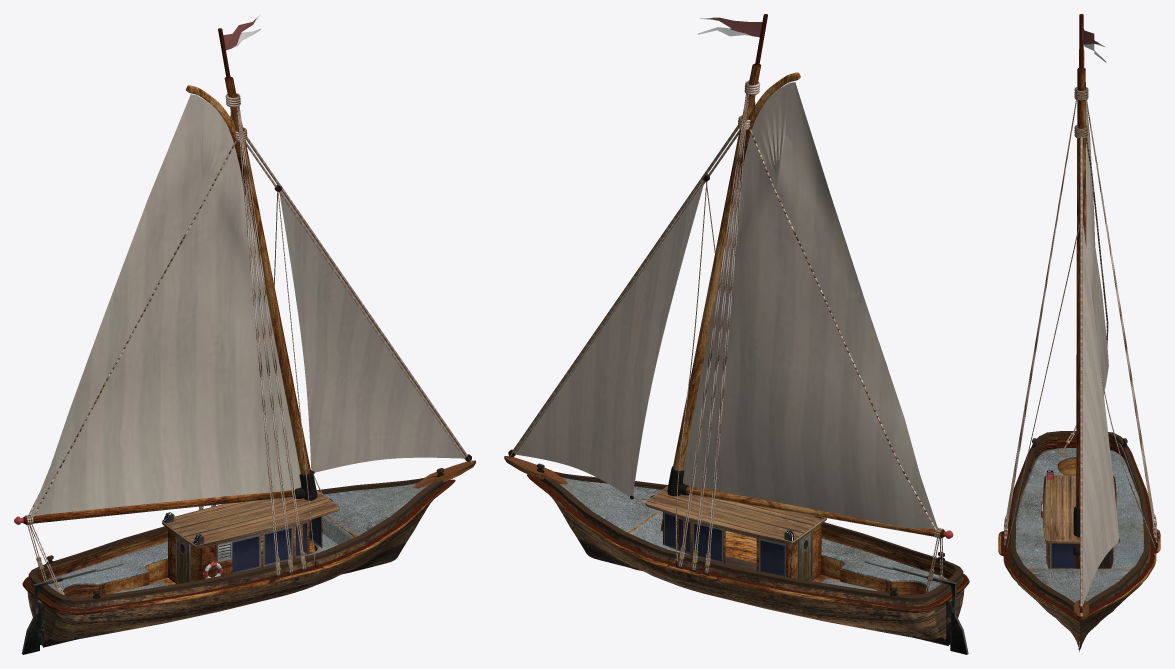
Rendered from raft.glb.
The picture shows the model from 3 angles, left to right: view 1: azimuth 30°, elevation 25°; view 2: azimuth 150°, elevation 25°; view 3: azimuth 270°, elevation 25°; orthographic projection. The views are drawn at different scales.
Visible parts, largest first — view 1: Object_6, Object_8, Object_23, Object_25, Object_27, Object_17, Object_2, Object_32, Object_5, Object_21, Object_20, Object_24; view 2: Object_6, Object_8, Object_23, Object_25, Object_27, Object_17, Object_2, Object_32, Object_5, Object_14, Object_21, Object_24 (+3 smaller); view 3: Object_6, Object_27, Object_8, Object_23, Object_25, Object_17, Object_32, Object_2, Object_5, Object_9.
Part boxes in pixels (left/top/right/bottom): Object_6: left=31, top=94, right=465, bottom=516; Object_8: left=27, top=476, right=447, bottom=641; Object_23: left=22, top=28, right=475, bottom=597; Object_25: left=22, top=479, right=455, bottom=614; Object_27: left=45, top=483, right=427, bottom=593; Object_17: left=25, top=93, right=305, bottom=593; Object_2: left=162, top=486, right=339, bottom=548; Object_32: left=28, top=137, right=472, bottom=564; Object_5: left=217, top=517, right=321, bottom=573; Object_21: left=22, top=498, right=332, bottom=654; Object_20: left=38, top=470, right=317, bottom=645; Object_24: left=186, top=85, right=248, bottom=199; Object_6: left=514, top=82, right=937, bottom=529; Object_8: left=538, top=471, right=964, bottom=639; Object_23: left=504, top=14, right=944, bottom=595; Object_25: left=527, top=474, right=969, bottom=612; Object_27: left=559, top=477, right=947, bottom=591; Object_17: left=679, top=80, right=944, bottom=593; Object_2: left=645, top=486, right=826, bottom=544; Object_32: left=507, top=125, right=937, bottom=564; Object_5: left=664, top=512, right=786, bottom=576; Object_14: left=577, top=538, right=948, bottom=645; Object_21: left=650, top=495, right=968, bottom=654; Object_24: left=736, top=72, right=800, bottom=189; Object_6: left=1083, top=101, right=1119, bottom=604; Object_27: left=1015, top=448, right=1143, bottom=602; Object_8: left=1009, top=431, right=1150, bottom=645; Object_23: left=998, top=14, right=1160, bottom=619; Object_25: left=1003, top=436, right=1156, bottom=639; Object_17: left=1004, top=87, right=1157, bottom=544; Object_32: left=1006, top=136, right=1155, bottom=616; Object_2: left=1043, top=475, right=1116, bottom=543; Object_5: left=1050, top=543, right=1112, bottom=568; Object_9: left=1082, top=24, right=1106, bottom=62.
Size of the model in its own units: 4.01 by 4.88 by 1.28.
24 materials, 24 textured.
